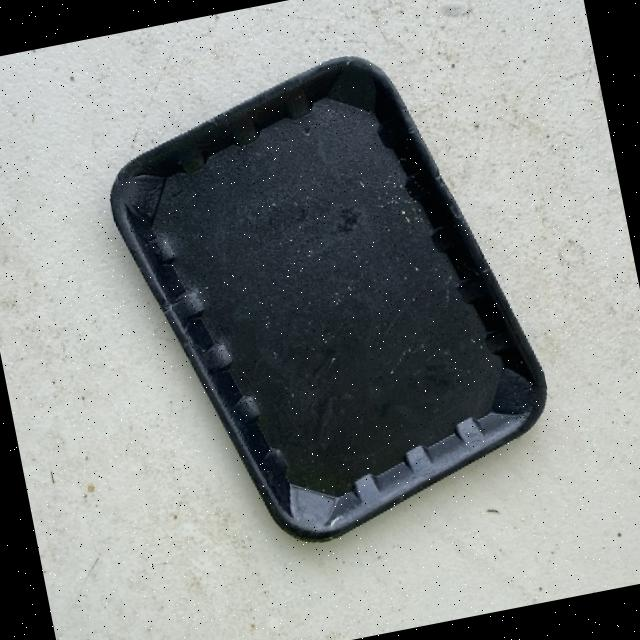styrofoam: (0, 0, 640, 640), (87, 28, 568, 570)
